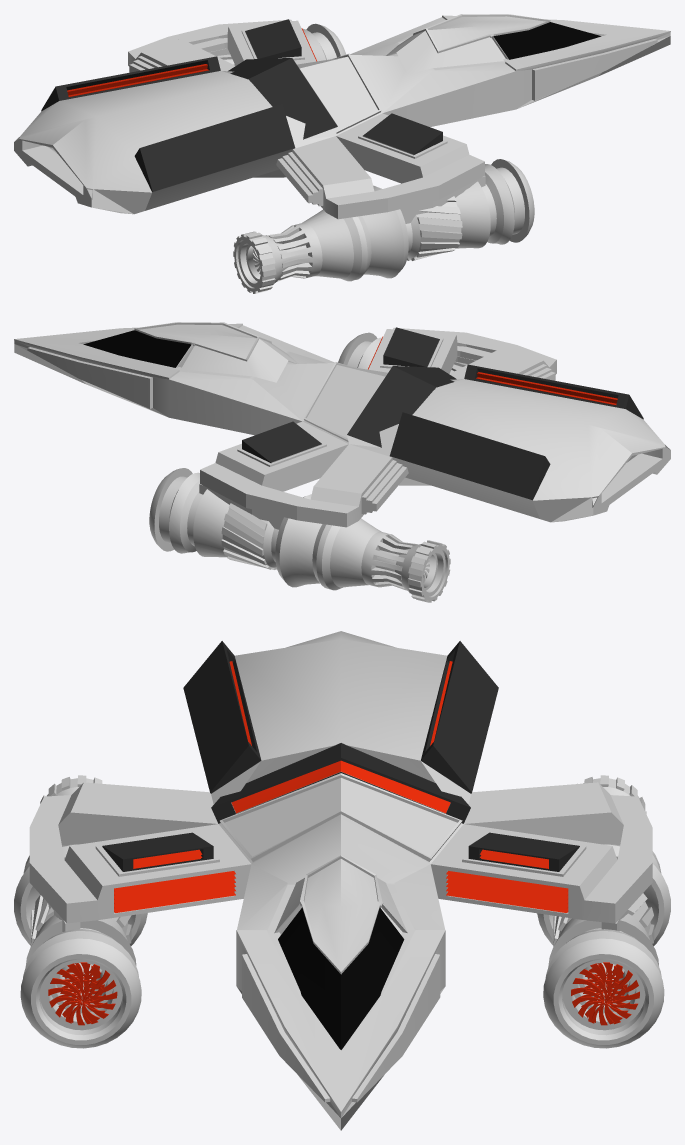
Rendered from spaceShip2.fbx.
3 views of the same model, one above another, from view 1: azimuth 30°, elevation 25°; view 2: azimuth 150°, elevation 25°; view 3: azimuth 270°, elevation 25° (orthographic). The views are drawn at different scales.
Visible parts, largest first — view 1: Cube, Cylinder.001, Cylinder; view 2: Cube, Cylinder, Cylinder.001; view 3: Cube, Cylinder, Cylinder.001, Circle.003, Circle.
Boxes of the visible parts, x1,y1,x2,y2 form: Cube: (14,14,670,223); Cylinder.001: (233,159,534,293); Cylinder: (216,23,345,65); Cube: (14,322,670,529); Cylinder: (149,468,450,602); Cylinder.001: (338,332,467,373); Cube: (29,631,652,1130); Cylinder: (537,775,670,1048); Cylinder.001: (14,775,147,1048); Circle.003: (48,962,117,1025); Circle: (571,962,639,1025).
Size of the model in its own units: 965 by 222 by 628.
